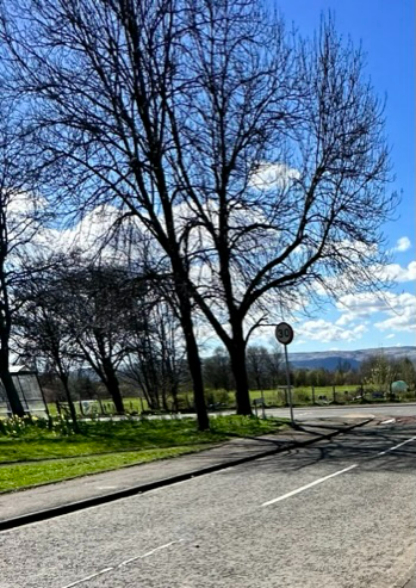tree: (0, 0, 402, 405), (31, 254, 148, 402)
